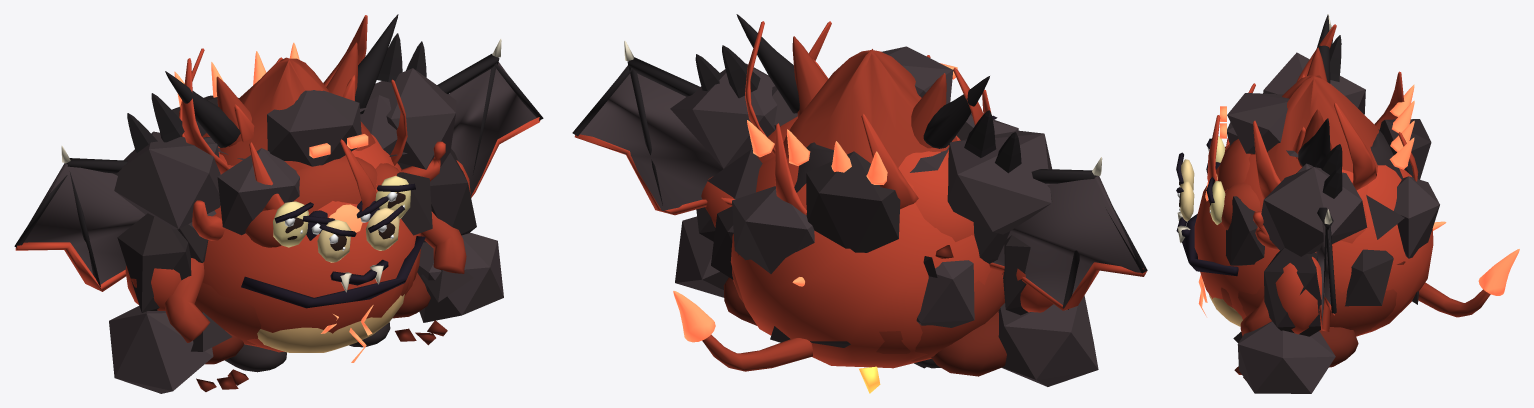
Rendered from mobs_s4.glb.
The picture shows the model from 3 angles, left to right: view 1: azimuth 30°, elevation 25°; view 2: azimuth 150°, elevation 25°; view 3: azimuth 270°, elevation 25°; orthographic projection. The views are drawn at different scales.
Visible parts, largest first — view 1: i_body, b_wing-1, g_shoulder-1, g_fist-1, g_head, b_wing1, g_shoulder1, w_body, g_fist1, g_slab8, g_arm-1, sp_throat (+42 smaller); view 2: i_body, w_body, b_wing1, b_wing-1, g_shoulder-1, g_slab5, g_fist-1, g_shoulder1, g_slab4, g_magma, sp_body, g_slab6 (+34 smaller); view 3: i_body, g_shoulder1, g_fist1, w_body, g_head, g_slab4, g_arm1, sp_body, g_slab3, g_armlava1, g_slab1, g_shoulder-1 (+32 smaller).
Part boxes in pixels (box(x1,y1,x2,y2)): i_body: box(202, 133, 420, 352); b_wing-1: box(24, 163, 145, 284); g_shoulder-1: box(113, 131, 220, 229); g_fist-1: box(109, 305, 213, 393); g_head: box(267, 90, 361, 166); b_wing1: box(449, 62, 536, 195); g_shoulder1: box(368, 68, 456, 169); w_body: box(219, 57, 375, 170); g_fist1: box(417, 232, 503, 322); g_slab8: box(217, 148, 299, 235); g_arm-1: box(117, 213, 191, 312); sp_throat: box(257, 294, 404, 352); i_body: box(730, 135, 991, 368); w_body: box(783, 49, 957, 167); b_wing1: box(580, 65, 735, 210); b_wing-1: box(993, 176, 1141, 304); g_shoulder-1: box(947, 130, 1052, 234); g_slab5: box(806, 151, 900, 252); g_fist-1: box(998, 295, 1098, 386); g_shoulder1: box(670, 63, 777, 168); g_slab4: box(732, 186, 814, 273); g_magma: box(756, 116, 974, 241); sp_body: box(732, 267, 1004, 361); g_slab6: box(916, 260, 974, 327); i_body: box(1194, 154, 1433, 336); g_shoulder1: box(1261, 167, 1367, 256); g_fist1: box(1237, 321, 1335, 393); w_body: box(1250, 75, 1378, 181); g_head: box(1227, 93, 1289, 153); g_slab4: box(1394, 176, 1439, 258); g_arm1: box(1264, 247, 1321, 336); sp_body: box(1221, 286, 1397, 335); g_slab3: box(1345, 249, 1393, 306); g_armlava1: box(1275, 256, 1321, 334); g_slab1: box(1226, 196, 1264, 265); g_shoulder-1: box(1263, 52, 1365, 114).
Bounding box in the file's own units: 3.94 × 2.14 × 2.43.
